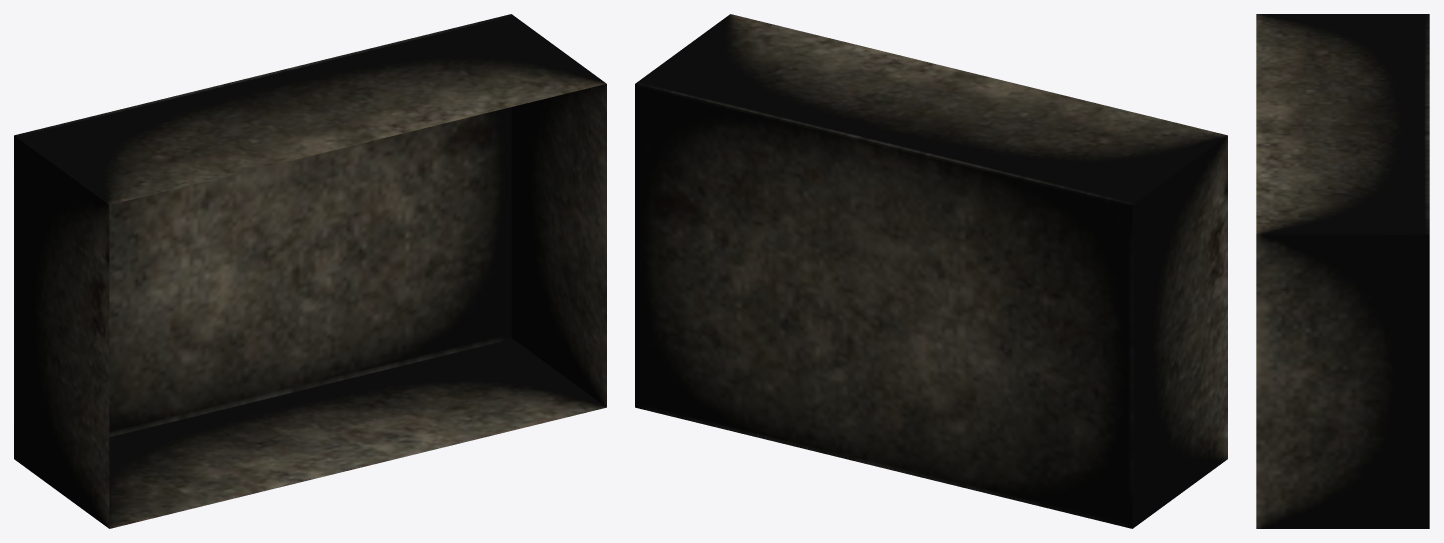
The model's file is Ind_WindowBlind.FBX.
The picture shows the model from 3 angles, left to right: view 1: azimuth 30°, elevation 25°; view 2: azimuth 150°, elevation 25°; view 3: azimuth 270°, elevation 25°; orthographic projection. The views are drawn at different scales.
Visible parts, largest first — view 1: Ind_WindowBlind; view 2: Ind_WindowBlind; view 3: Ind_WindowBlind.
Part boxes in pixels (bbox=[...]): Ind_WindowBlind: bbox=[14, 14, 606, 528]; Ind_WindowBlind: bbox=[635, 14, 1227, 528]; Ind_WindowBlind: bbox=[1256, 14, 1429, 528].
Size of the model in its own units: 264 by 164 by 87.5.
